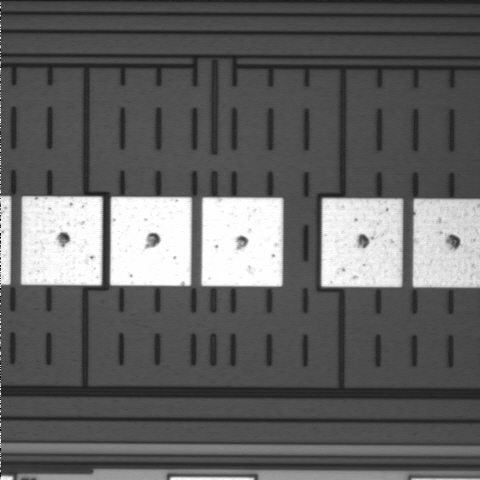pad: (110, 197, 192, 286), (201, 197, 283, 286), (321, 198, 403, 287), (21, 196, 102, 285)
